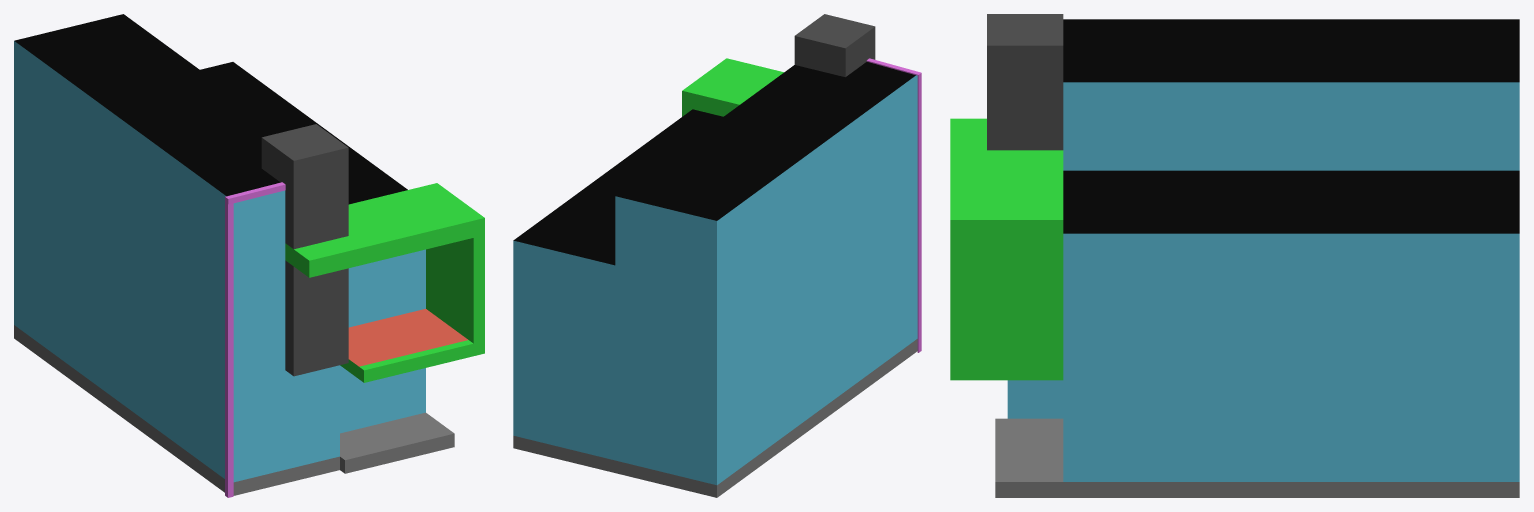
Rendered from House_3.fbx.
The picture shows the model from 3 angles, left to right: view 1: azimuth 30°, elevation 25°; view 2: azimuth 150°, elevation 25°; view 3: azimuth 270°, elevation 25°; orthographic projection. The views are drawn at different scales.
Parts seen in each view (by area): view 1: Plane.002, Plane.003; view 2: Plane.002, Plane.003; view 3: Plane.002.
Part boxes in pixels (x1=…): Plane.002: x1=14, y1=14, x2=484, y2=495; Plane.003: x1=225, y1=182, x2=285, y2=497; Plane.002: x1=513, y1=14, x2=917, y2=497; Plane.003: x1=866, y1=58, x2=921, y2=352; Plane.002: x1=950, y1=14, x2=1519, y2=497.
Size of the model in its own units: 629 by 847 by 1123.
